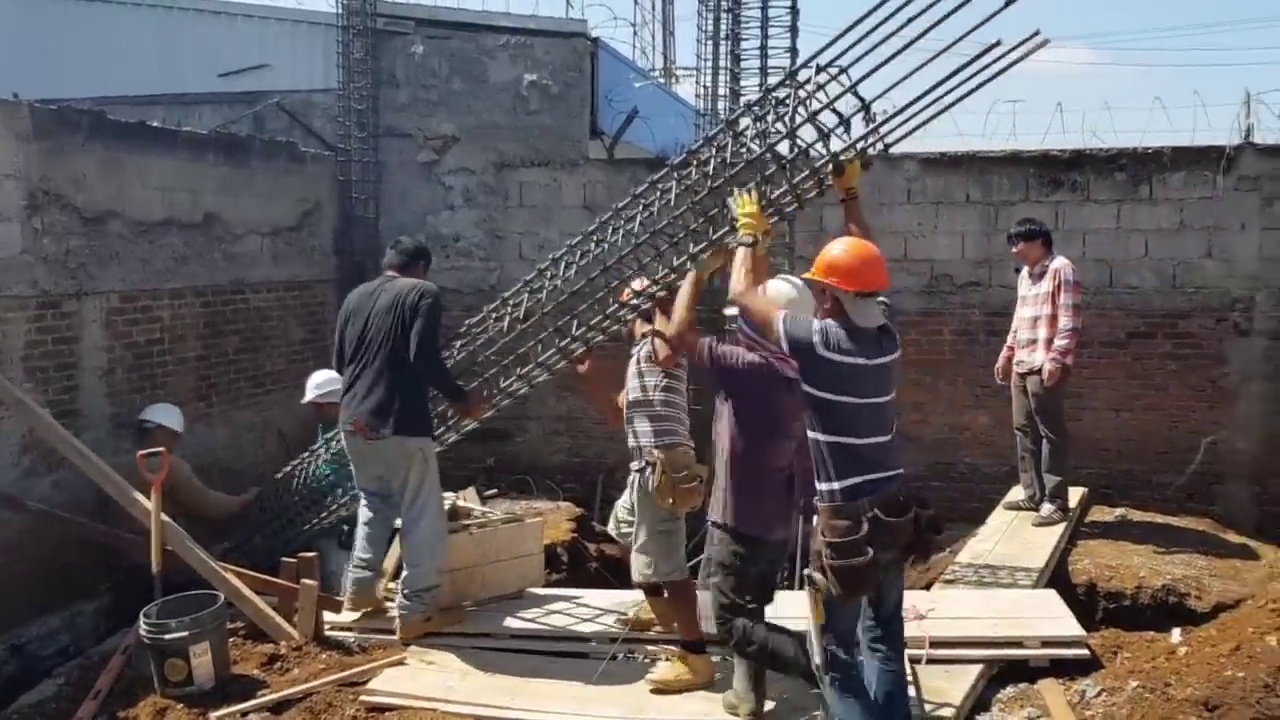helmet: (805, 235, 891, 298), (758, 273, 804, 327), (619, 276, 666, 313), (136, 402, 184, 437), (300, 368, 345, 405)
helmet-off: (1008, 217, 1057, 271), (373, 239, 425, 287)
helmet-on: (806, 230, 890, 333), (743, 274, 818, 354), (616, 272, 668, 346), (135, 403, 184, 462), (299, 368, 346, 425)
person: (728, 190, 916, 715), (685, 257, 816, 720), (606, 221, 725, 709), (332, 235, 469, 649), (994, 205, 1087, 527), (108, 400, 257, 532), (297, 367, 355, 596)
